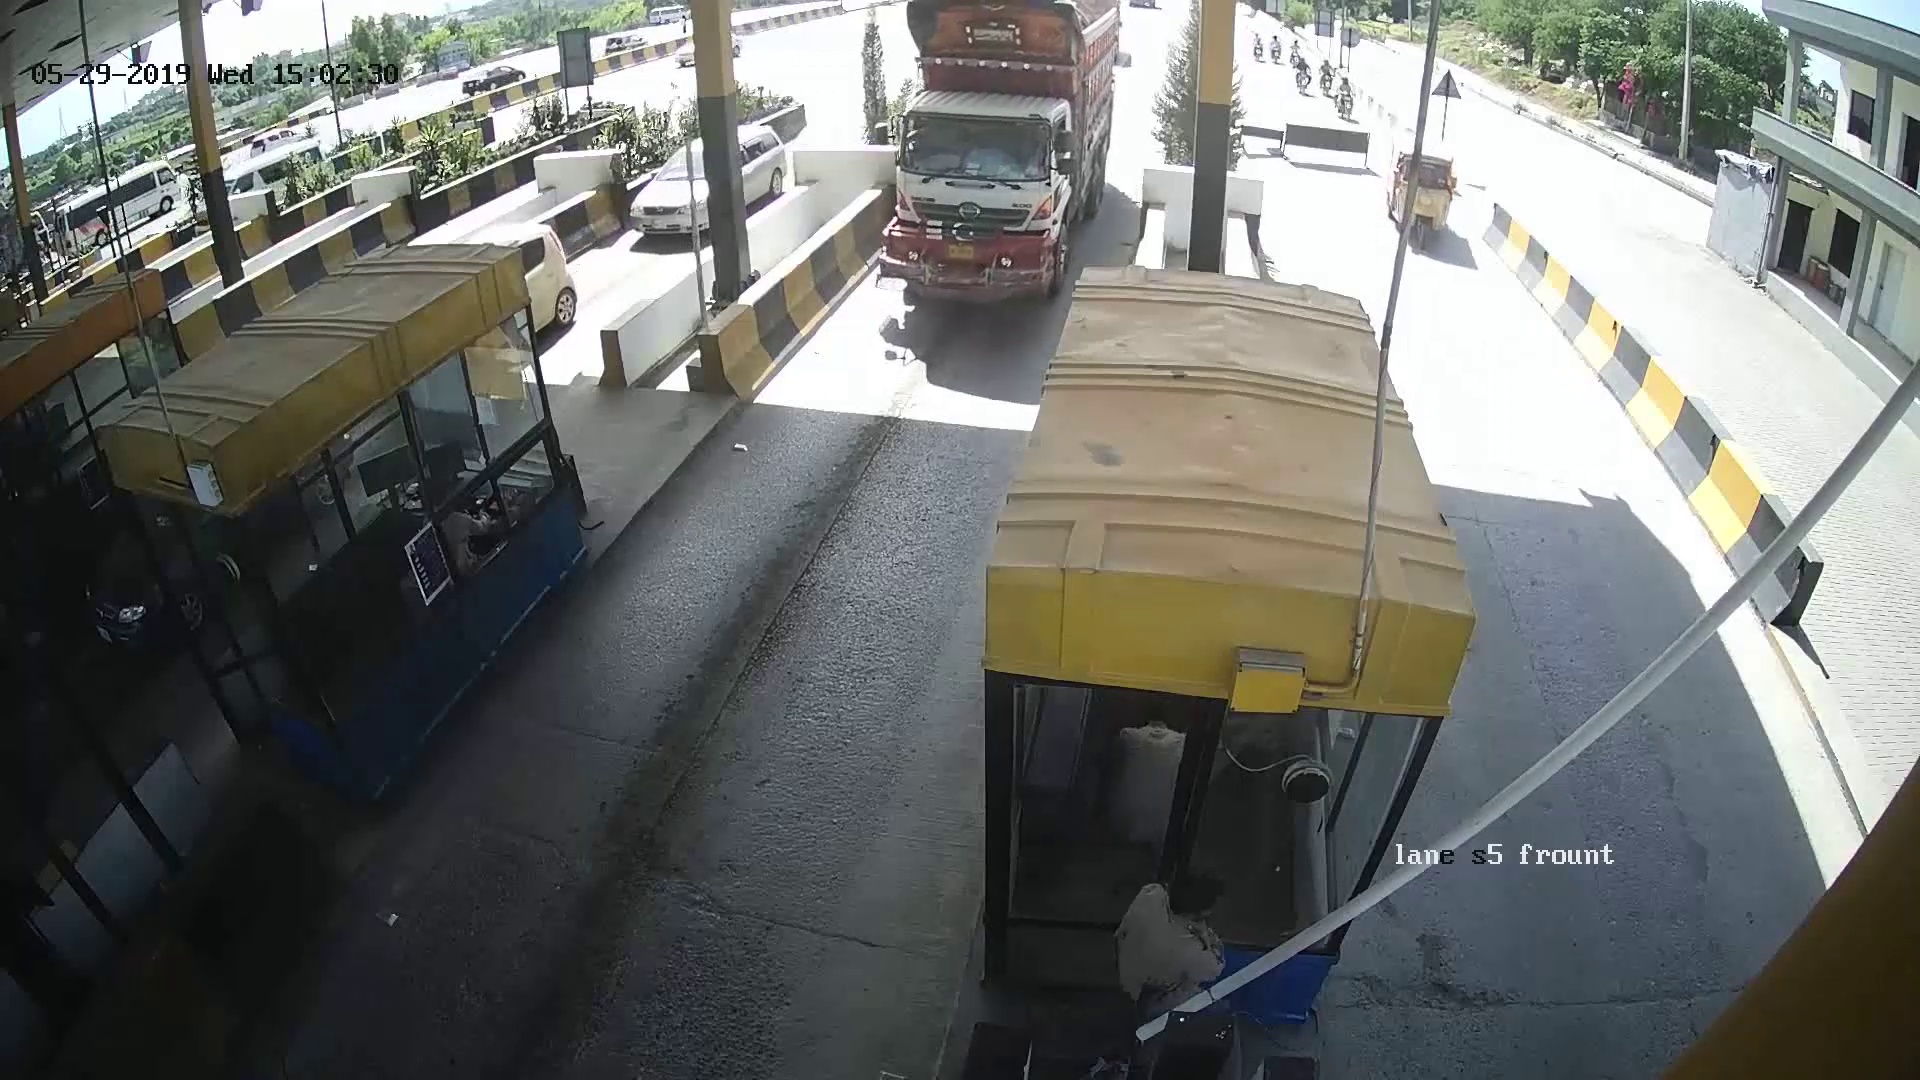truck: (884, 18, 1091, 309)
